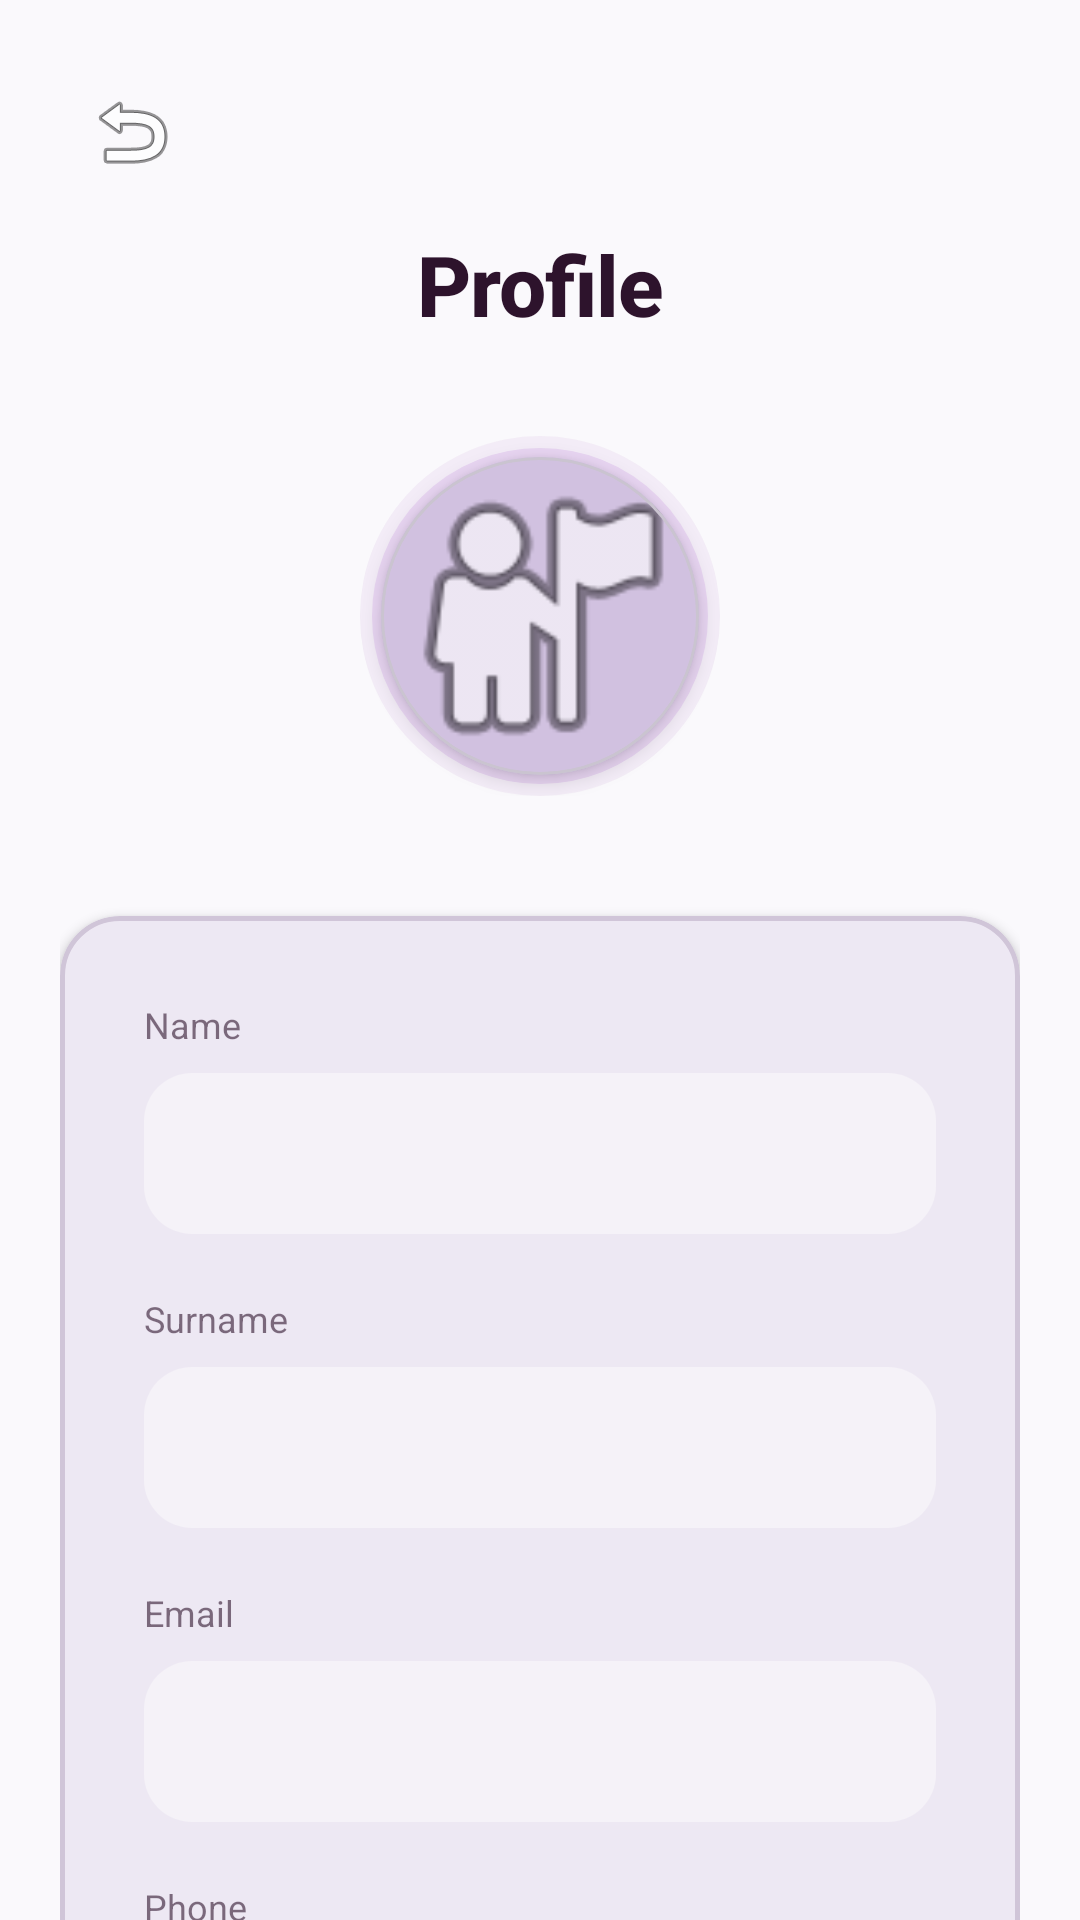

Icon bounding boxes for this 1080 x 1920 phone screenshot, format (x1, y1, x2, y2):
Back: (99, 101, 168, 164)
myplaces: (381, 457, 699, 775)
